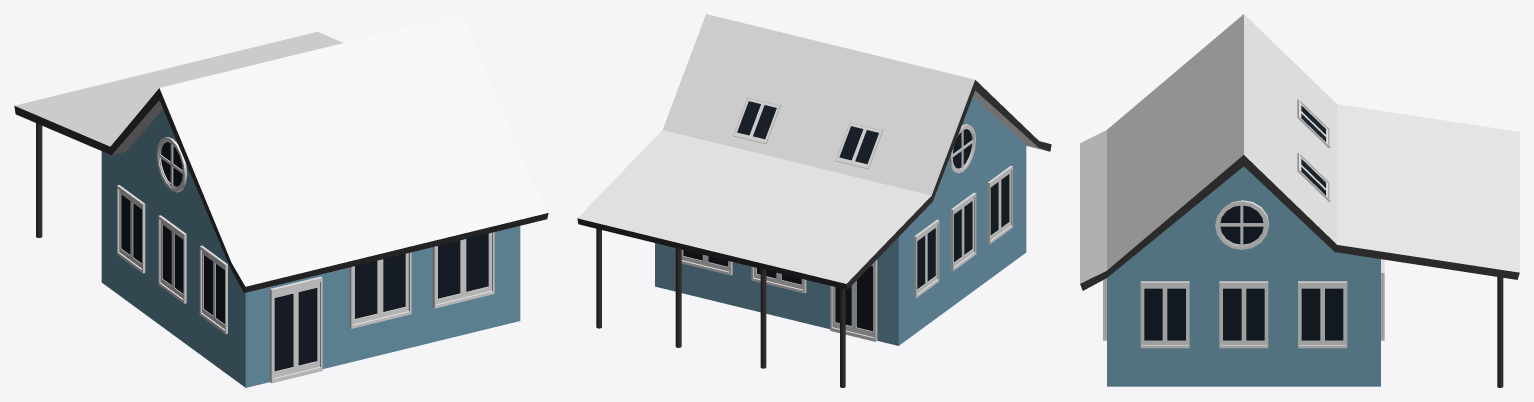
The model's file is Maison 3.fbx.
The picture shows the model from 3 angles, left to right: view 1: azimuth 30°, elevation 25°; view 2: azimuth 150°, elevation 25°; view 3: azimuth 270°, elevation 25°; orthographic projection. The views are drawn at different scales.
Parts seen in each view (by area): view 1: Maison2; view 2: Maison2; view 3: Maison2.
Part boxes in pixels (x1,y1,x2,y2): Maison2: (14, 14, 548, 387); Maison2: (577, 14, 1051, 387); Maison2: (1080, 14, 1519, 387).
Size of the model in its own units: 212 by 168 by 280.
